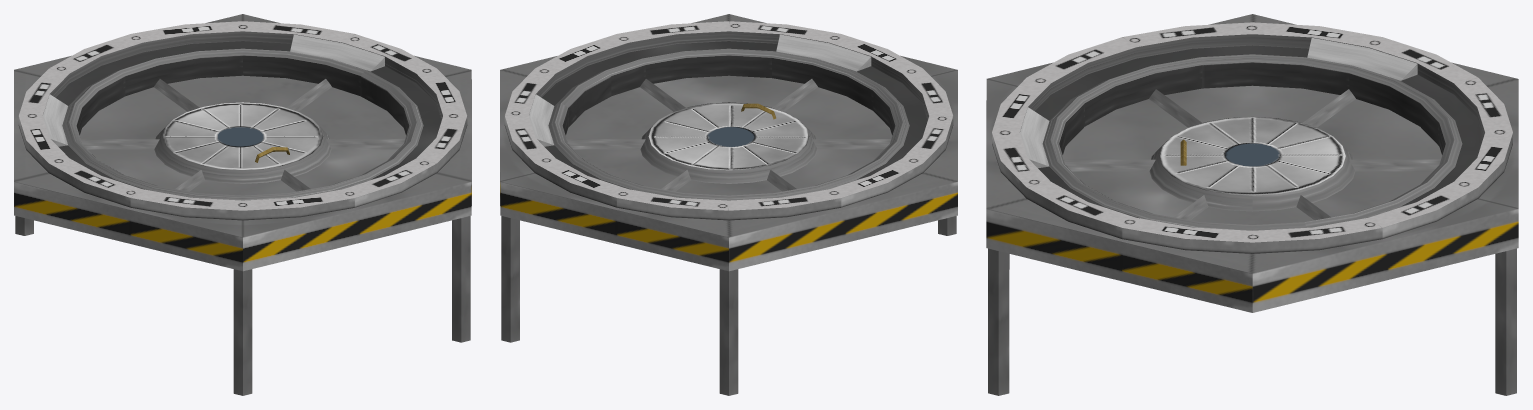
The model's file is HexPort.FBX.
3 views of the same model, side by side, from view 1: azimuth 30°, elevation 25°; view 2: azimuth 150°, elevation 25°; view 3: azimuth 270°, elevation 25° (orthographic). The views are drawn at different scales.
Parts seen in each view (by area): view 1: HexPortBody, HexPortBodyOpen, GlowRing, RadialBracer001, RadialBracer002, AlignmentTool003, AlignmentTool002, Stringer002, Stringer005, Stringer004, Stringer003; view 2: HexPortBody, HexPortBodyOpen, GlowRing, RadialBracer004, RadialBracer003, AlignmentTool001, AlignmentTool003, Stringer003, Stringer006, Stringer001, Stringer002; view 3: HexPortBody, HexPortBodyOpen, GlowRing, RadialBracer003, RadialBracer002, AlignmentTool002, AlignmentTool001, Stringer001, Stringer004, Stringer005, Stringer006.
Boxes of the visible parts, box(x1,y1,x2,y2) form: HexPortBody: box(14, 14, 471, 267); HexPortBodyOpen: box(14, 31, 471, 271); GlowRing: box(62, 48, 423, 200); RadialBracer001: box(233, 269, 252, 395); RadialBracer002: box(452, 216, 470, 342); AlignmentTool003: box(290, 34, 384, 71); AlignmentTool002: box(43, 94, 67, 146); Stringer002: box(326, 139, 404, 149); Stringer005: box(81, 139, 159, 149); Stringer004: box(154, 79, 199, 111); Stringer003: box(286, 79, 331, 111); HexPortBody: box(500, 14, 957, 271); HexPortBodyOpen: box(535, 37, 957, 270); GlowRing: box(548, 48, 909, 200); RadialBracer004: box(719, 269, 738, 395); RadialBracer003: box(501, 216, 519, 342); AlignmentTool001: box(776, 34, 871, 71); AlignmentTool003: box(529, 94, 554, 146); Stringer003: box(567, 139, 645, 149); Stringer006: box(812, 139, 890, 149); Stringer001: box(772, 79, 817, 111); Stringer002: box(640, 79, 685, 111); HexPortBody: box(986, 14, 1518, 312); HexPortBodyOpen: box(986, 34, 1518, 312); GlowRing: box(1042, 54, 1462, 230); RadialBracer003: box(1495, 248, 1516, 395); RadialBracer002: box(988, 248, 1009, 395); AlignmentTool002: box(1307, 38, 1417, 80); AlignmentTool001: box(1020, 107, 1049, 168); Stringer001: box(1064, 159, 1155, 171); Stringer004: box(1349, 159, 1440, 171); Stringer005: box(1303, 89, 1355, 127); Stringer006: box(1149, 89, 1201, 127).
Size of what is drawn, in the model's own units: 2.47 by 2.14 by 0.8696.
1 material, 1 textured.
